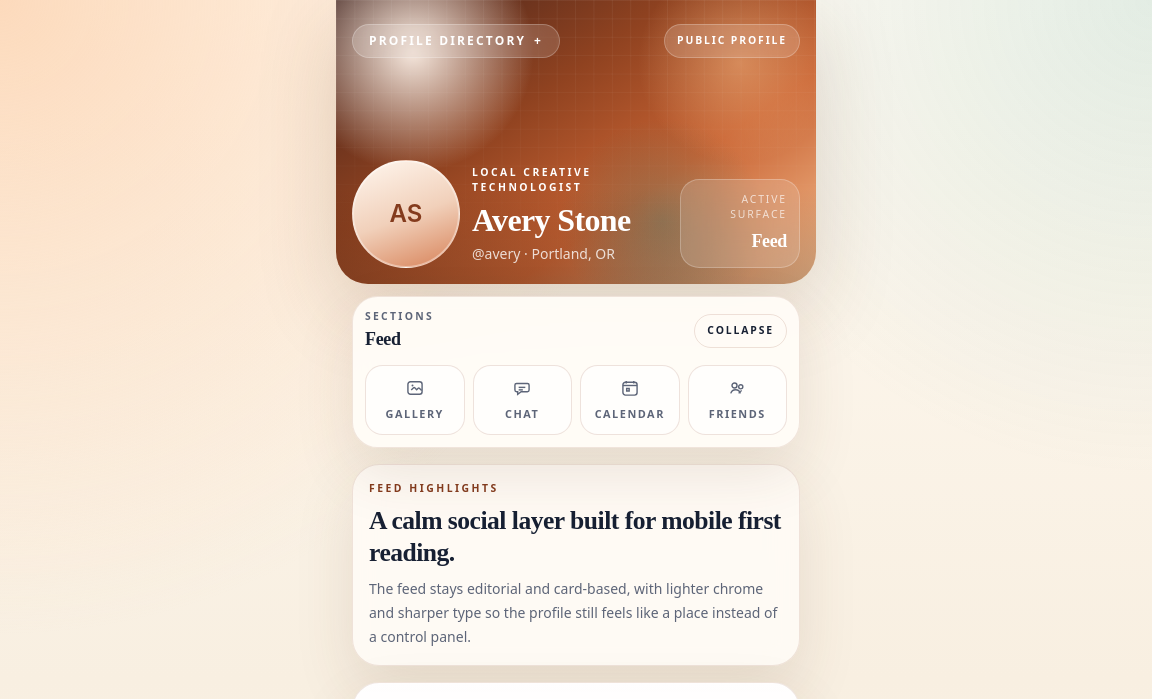
Test: MobileProfile › starts with the sections bar expanded and allows collapsing it
This screenshot has width=1152, height=699.
Expected: the element with test id "mobile-profile-sections-grid" is shown, [365,365,787,435]
Click the button "Collapse": [741, 331] box [694,314,787,348]
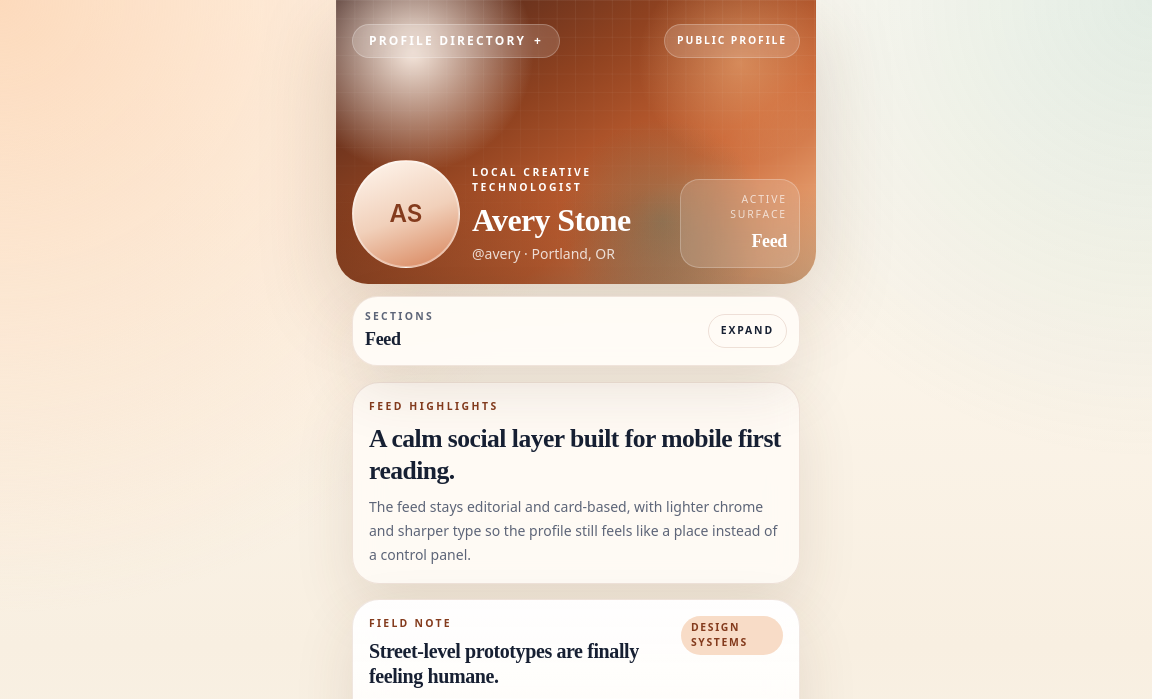
Expected: the element with test id "mobile-profile-sections-grid" is gone
